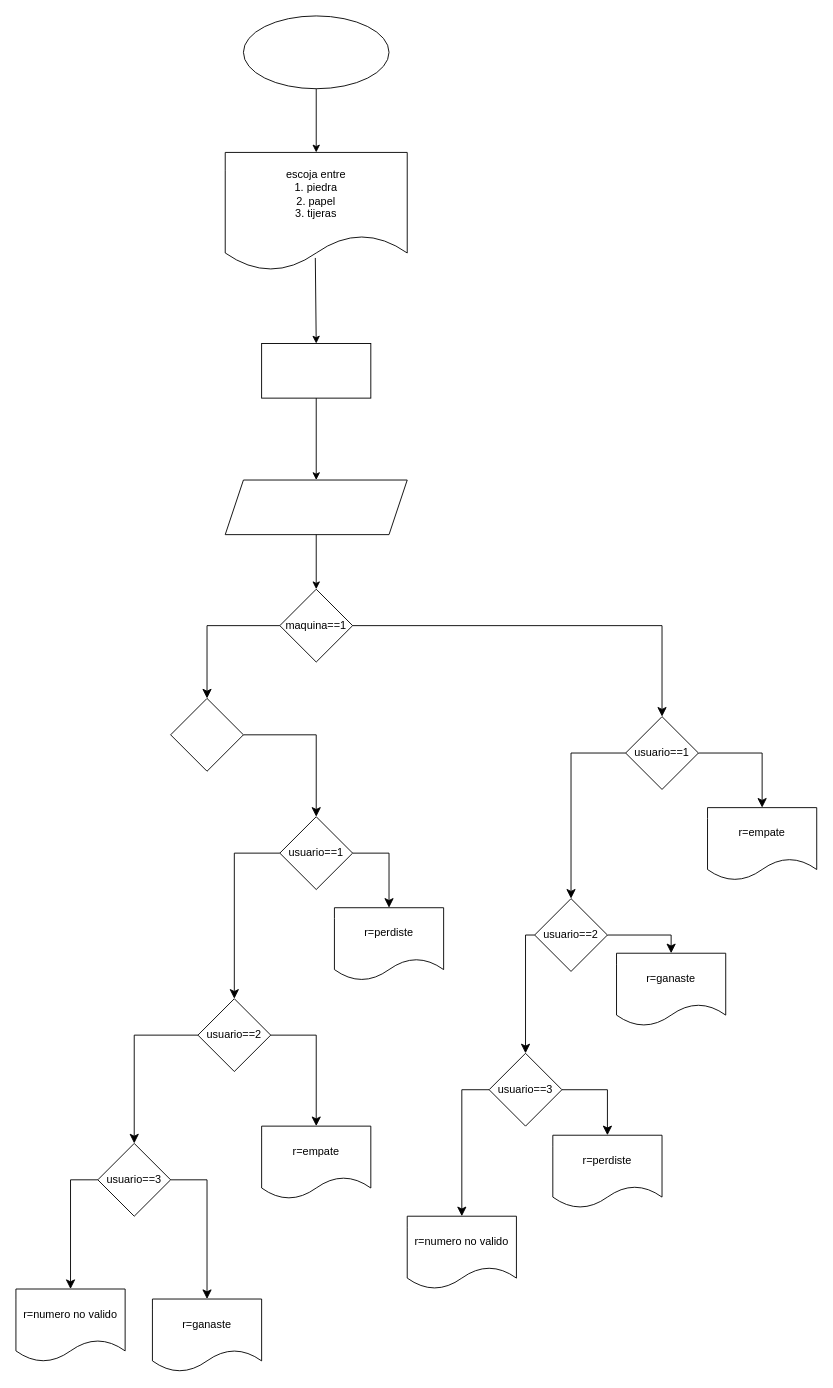
This 833x1388 diagram has some shape labels left out. The shapes that lost their labels are listed below. From the top down, each one's centre as x and y in pixels, then its label:
the point at 316,52: inicio
the point at 316,370: maquina genera un numero
the point at 315,507: ingrese un numero:______ y la mquina genera un numero
the point at 206,734: maquima==2
